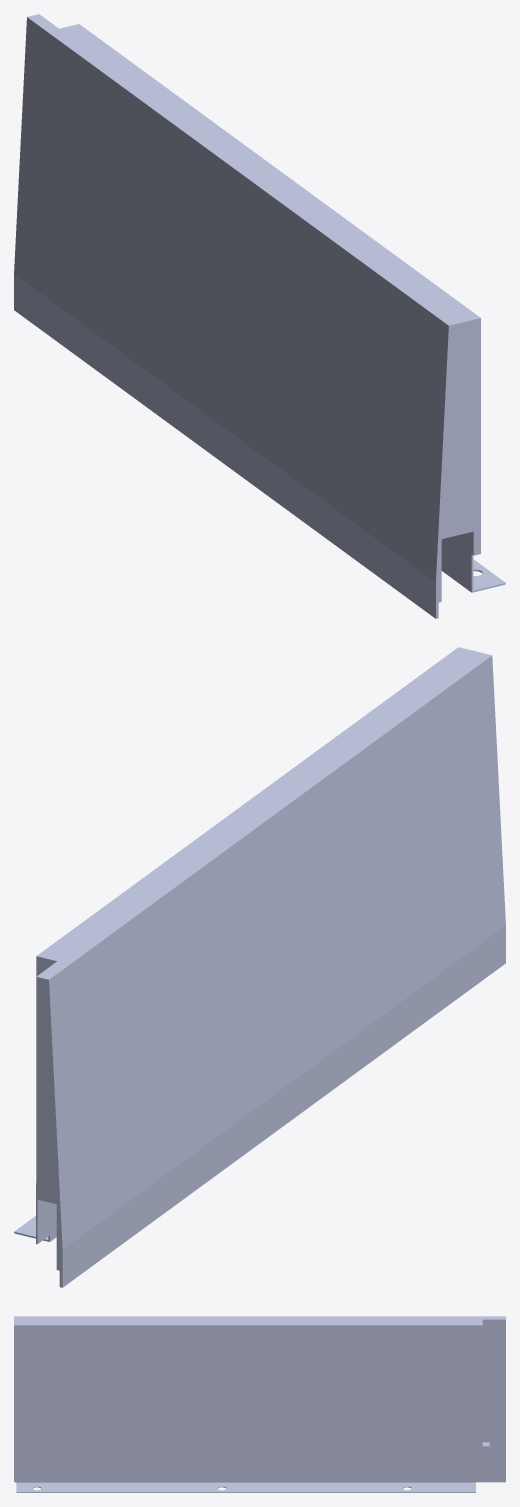
Rendered from mv-kava-K350-p.glb.
3 views of the same model, one above another, from view 1: azimuth 30°, elevation 25°; view 2: azimuth 150°, elevation 25°; view 3: azimuth 270°, elevation 25° (orthographic). The views are drawn at different scales.
Visible parts, largest first — view 1: 43351284; view 2: 43351284; view 3: 43351284.
Part boxes in pixels (left/top/right/bottom): 43351284: left=14, top=14, right=505, bottom=618; 43351284: left=14, top=647, right=505, bottom=1287; 43351284: left=14, top=1316, right=505, bottom=1492.
Bounding box in the file's own units: 0.0335 × 0.129 × 0.3402.
